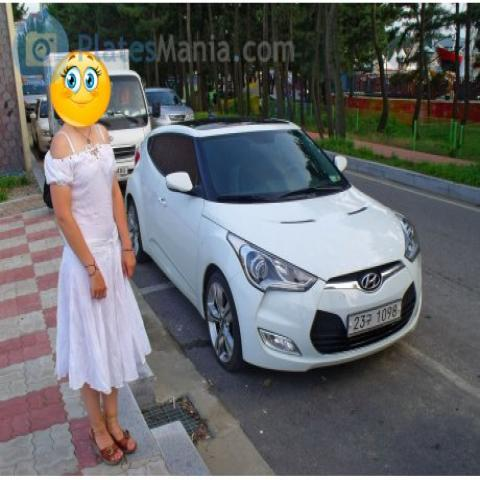LP: (341, 290, 408, 342)
